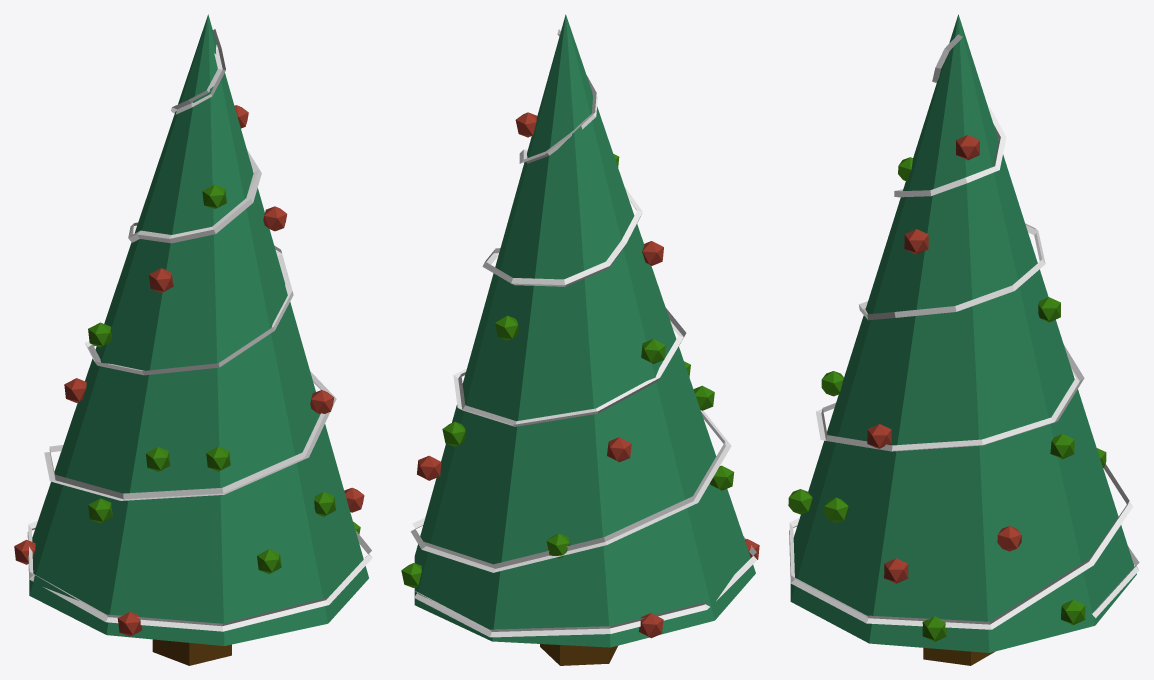
Rendered from decorated_tree.dae.
3 views of the same model, side by side, from view 1: azimuth 30°, elevation 25°; view 2: azimuth 150°, elevation 25°; view 3: azimuth 270°, elevation 25° (orthographic).
Visible parts, largest first — view 1: decorated_tree; view 2: decorated_tree; view 3: decorated_tree.
Part boxes in pixels (x1,y1,x2,y2): decorated_tree: [14, 14, 372, 665]; decorated_tree: [401, 14, 759, 665]; decorated_tree: [788, 14, 1139, 665].
Bounding box in the file's own units: 1.04 × 1.03 × 2.08.
